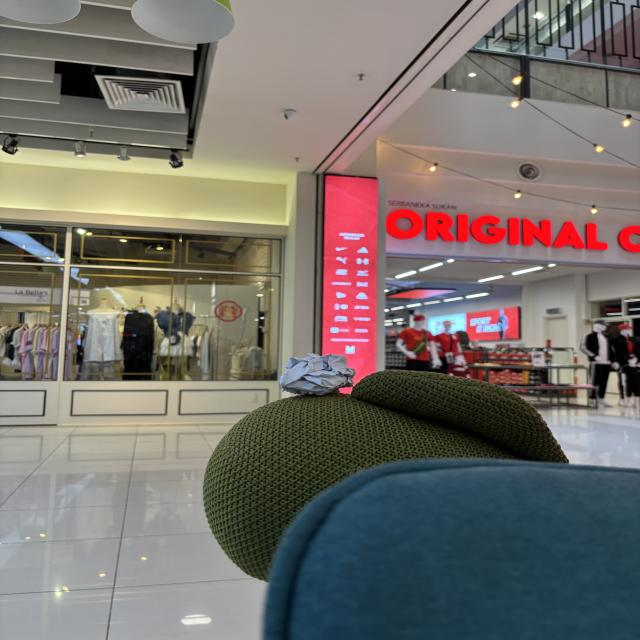crumpled_paper: (275, 350, 357, 398)
